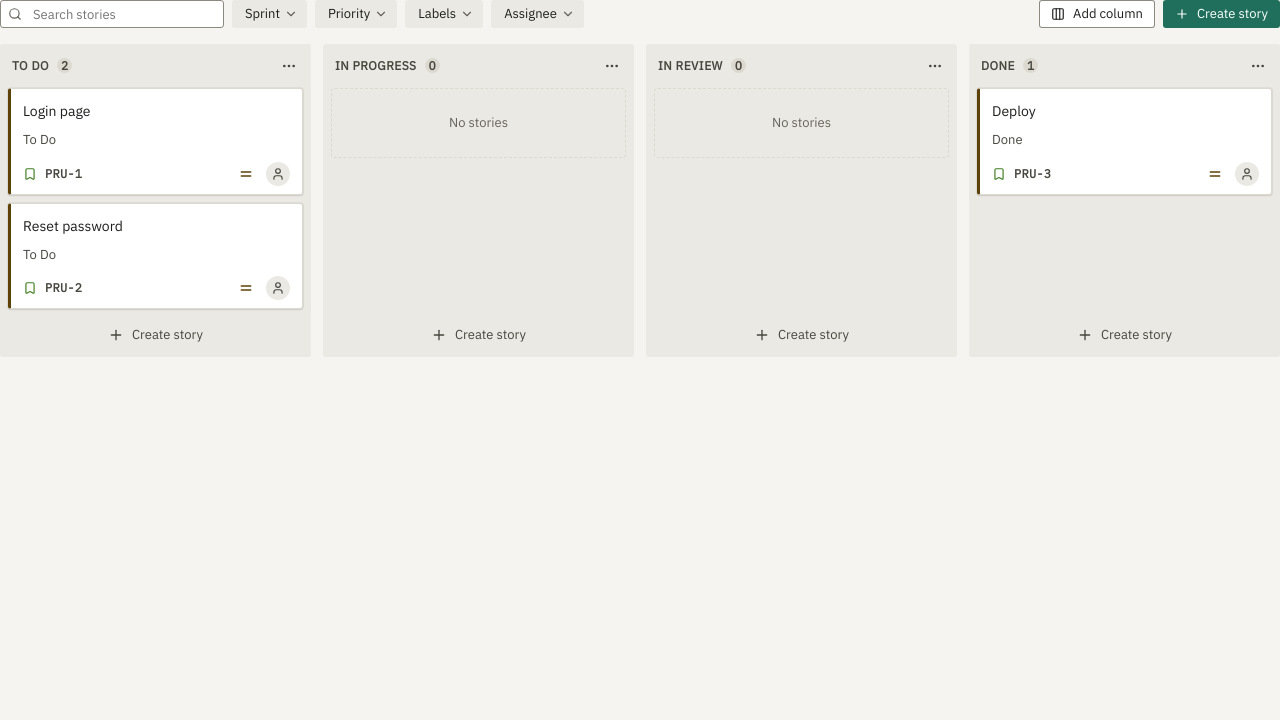
Test case: BoardView › deleting a column with stories asks where they go
Click the 1st button named "Column options" at [289, 66], box [275,52,303,80]
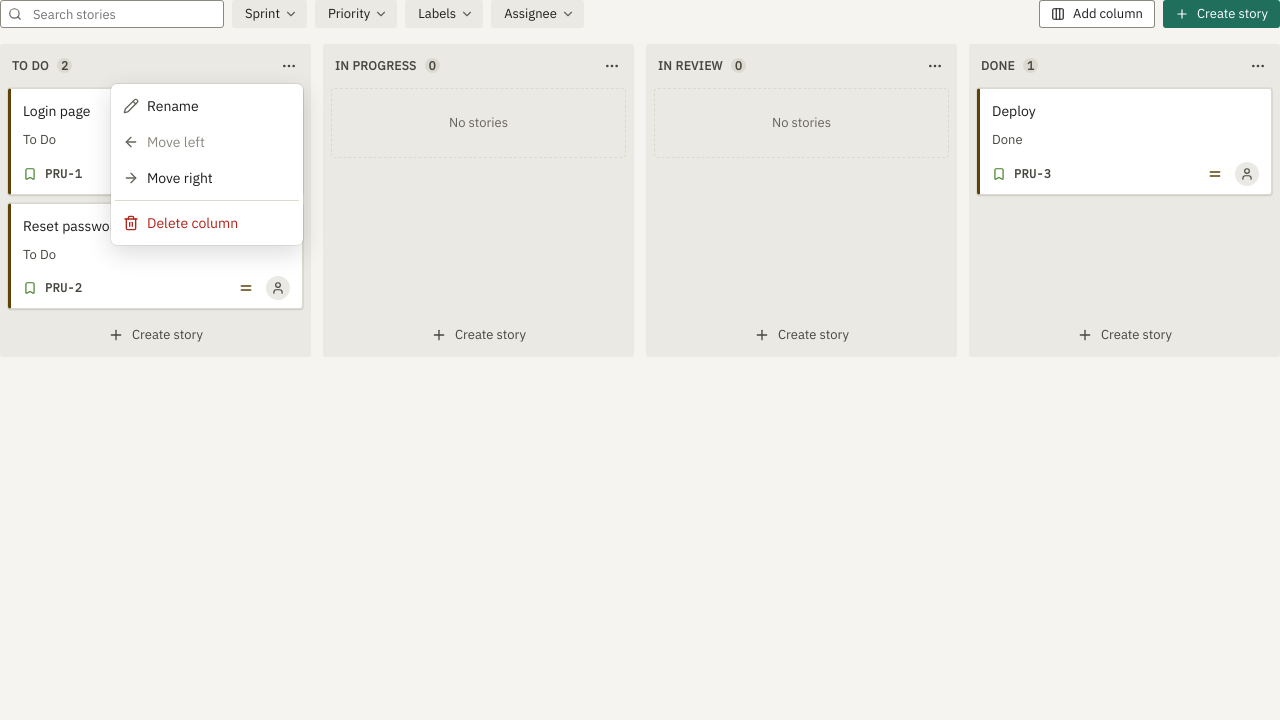
Click the menu item "Delete column" at [181, 222], box [123,214,238,232]
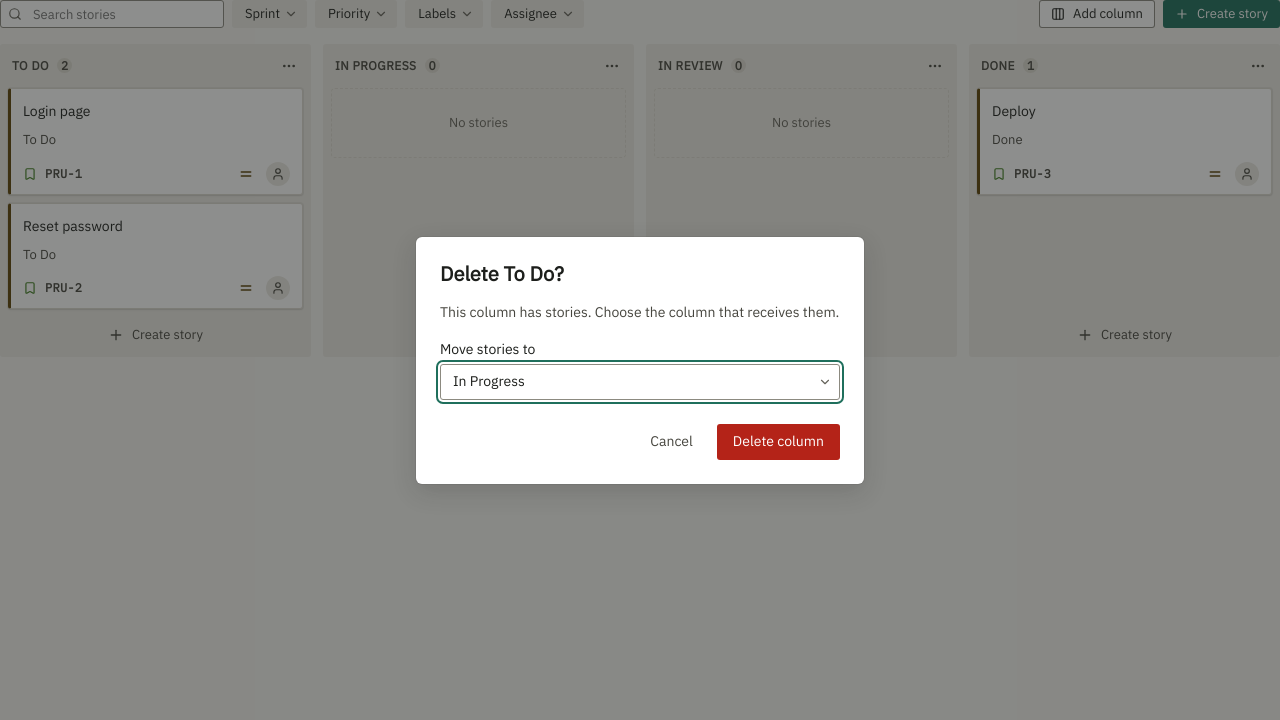
Expected: the dialog "Delete To Do?" shows "This column has stories.", [440,302,839,320]
Select "Done" in the dropdown labelled "Move stories to" at [640, 382], box [440,364,840,400]
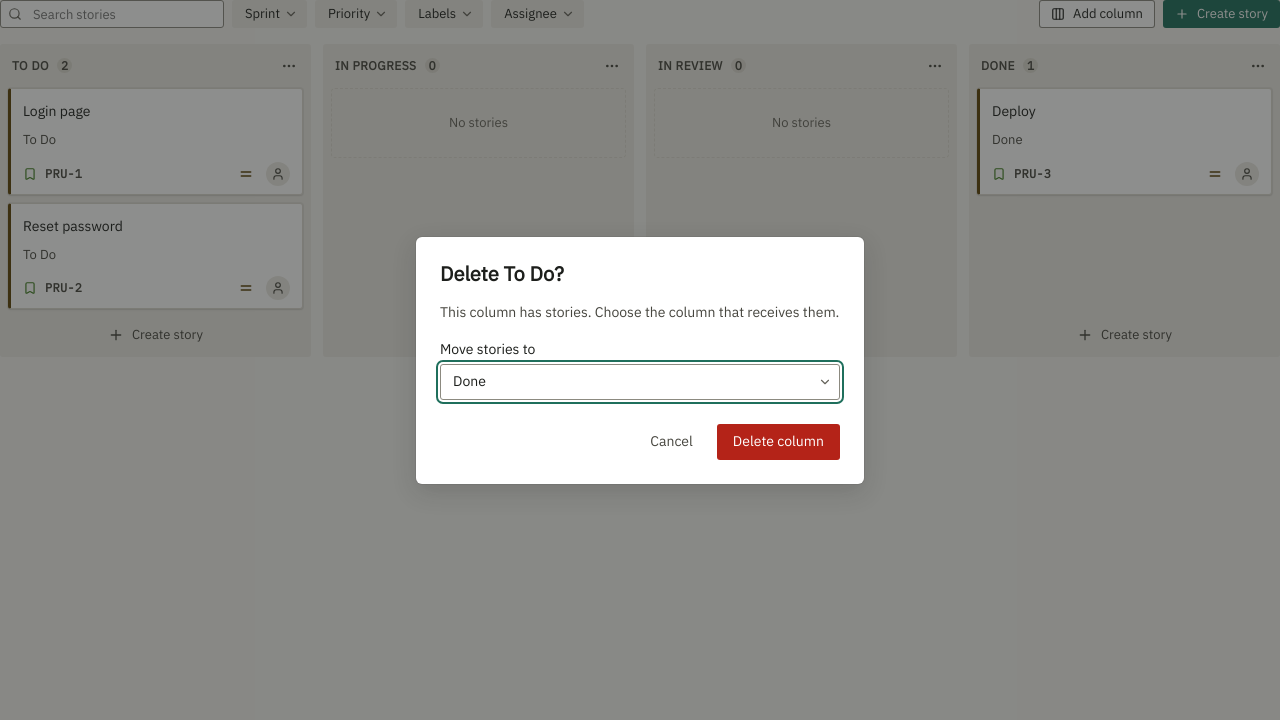
Click the button "Delete column" at [778, 442], box [717,424,840,460]
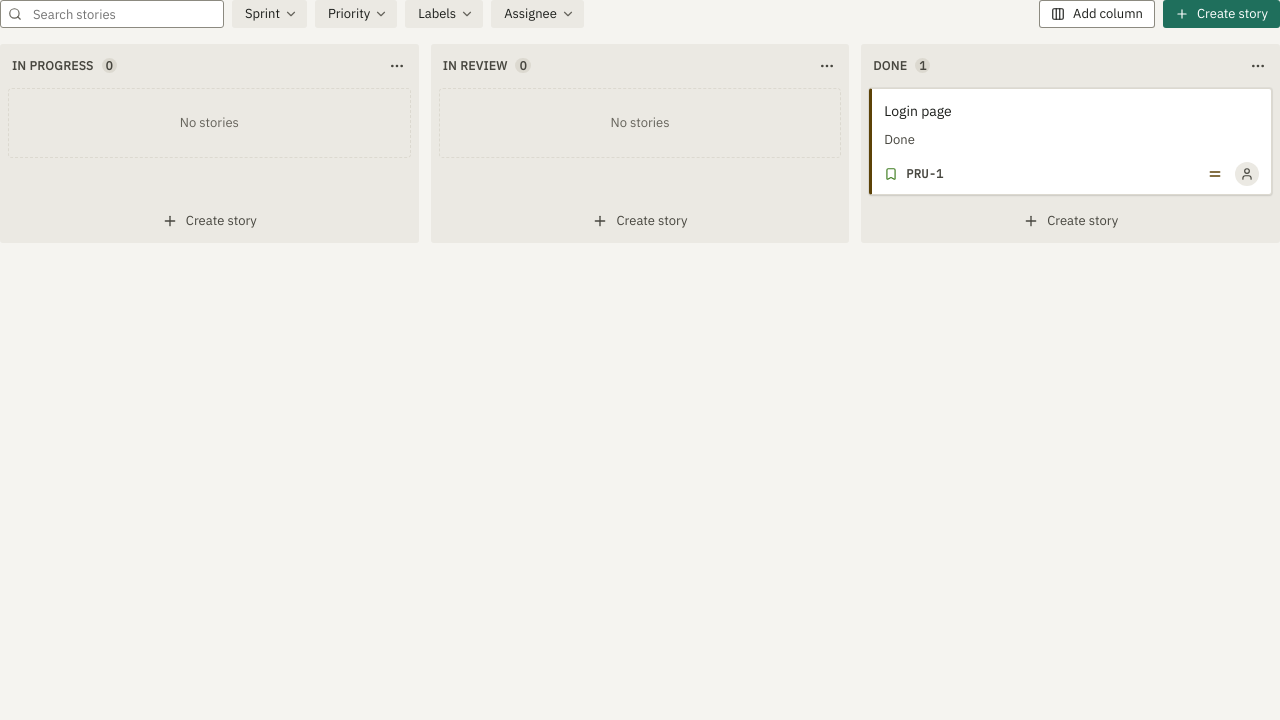
Expected: the heading "To Do" is gone
